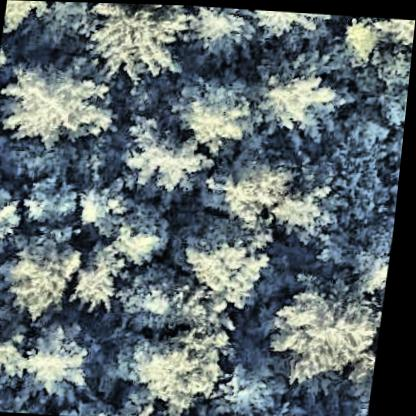tree-top: (269, 265, 393, 392), (2, 42, 121, 156), (131, 325, 241, 411), (79, 2, 193, 84), (118, 108, 221, 192), (185, 219, 287, 302), (253, 52, 349, 135), (118, 256, 230, 327), (6, 231, 90, 317), (271, 159, 349, 243), (221, 149, 303, 224), (179, 77, 260, 149), (27, 321, 103, 396), (75, 242, 134, 315), (25, 164, 88, 228), (78, 171, 139, 234), (189, 6, 259, 60), (240, 7, 333, 40), (118, 206, 174, 257), (0, 177, 35, 258), (0, 328, 38, 392), (3, 0, 62, 40), (334, 12, 381, 59), (375, 15, 416, 47), (0, 281, 15, 360)
